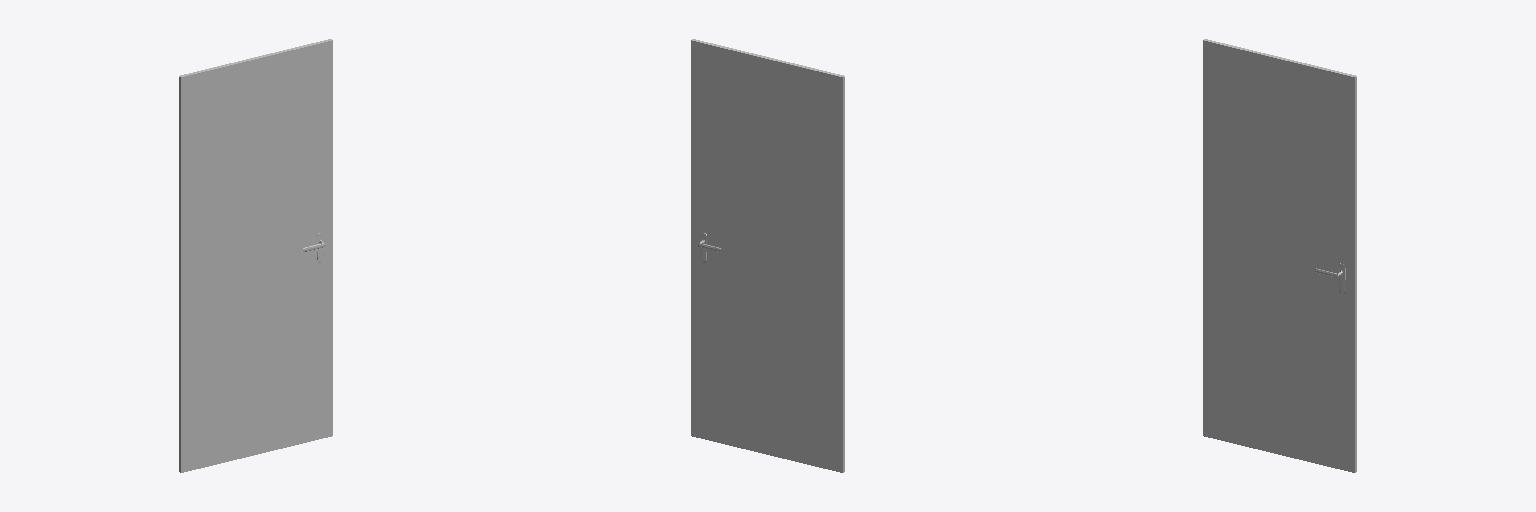
File: Puerta.obj
3 views of the same model, side by side, from view 1: azimuth 30°, elevation 25°; view 2: azimuth 150°, elevation 25°; view 3: azimuth 330°, elevation 25° (orthographic).
Parts seen in each view (by area): view 1: Panel.002_Panel.009; view 2: Panel.002_Panel.009; view 3: Panel.002_Panel.009.
Boxes of the visible parts, x1=… form: Panel.002_Panel.009: x1=179, y1=39, x2=332, y2=472; Panel.002_Panel.009: x1=691, y1=39, x2=844, y2=472; Panel.002_Panel.009: x1=1203, y1=39, x2=1356, y2=472.
Size of the model in its own units: 0.81 by 2 by 0.1154.